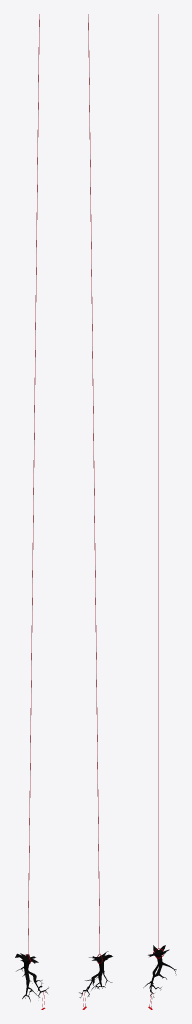
Rendered from blommetrae_lang.glb.
3 views of the same model, side by side, from view 1: azimuth 30°, elevation 25°; view 2: azimuth 210°, elevation 25°; view 3: azimuth 270°, elevation 25° (orthographic).
Parts seen in each view (by area): view 1: long string.001, tree; view 2: long string.001, tree; view 3: long string.001, tree.
Part boxes in pixels (box(x1,y1,x2,y2)): long string.001: box(25, 14, 39, 963); tree: box(15, 953, 48, 1001); long string.001: box(88, 14, 102, 963); tree: box(79, 951, 112, 997); long string.001: box(153, 14, 163, 958); tree: box(143, 945, 176, 998).
Bounding box in the file's own units: 6.56 × 212 × 6.56.
